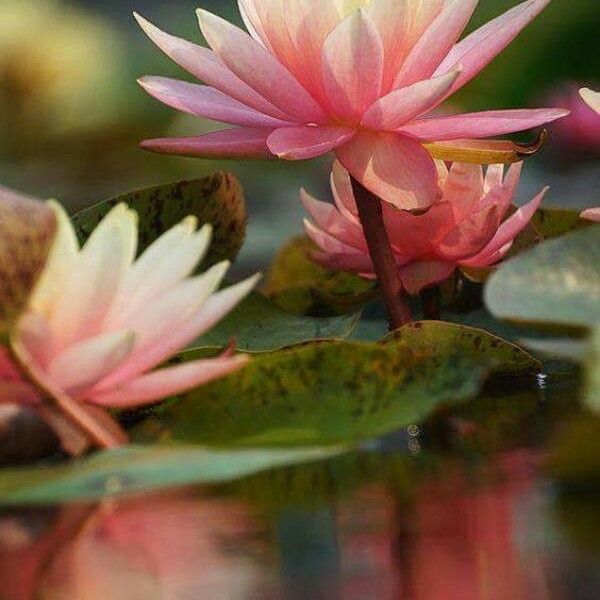obstacle: (132, 0, 589, 438)
